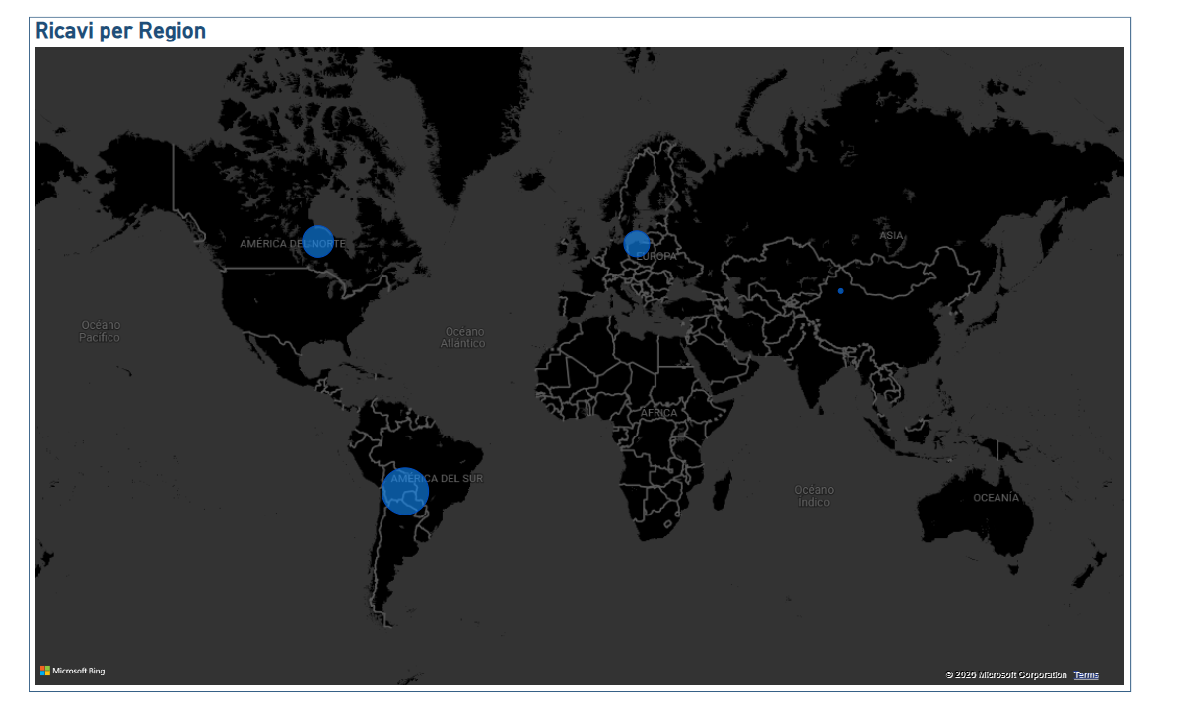

Layout of this report page (visuals, bound fields, positions):
{"tool":"powerbi","page":{"name":"Mappa Clienti","canvas":[1280,720],"ordinal":2},"visuals":[{"type":"map","title":"Ricavi per Region","fields":{"Size":["Transazioni.Ricavi"],"Category":["Clienti.Region"]},"box":[96,32,1072,656],"z":0}]}

Visuals, with their boxes in screenshot pixels (x1, y1, x2, y2):
"Ricavi per Region" map: crop(29, 44, 1076, 684)
